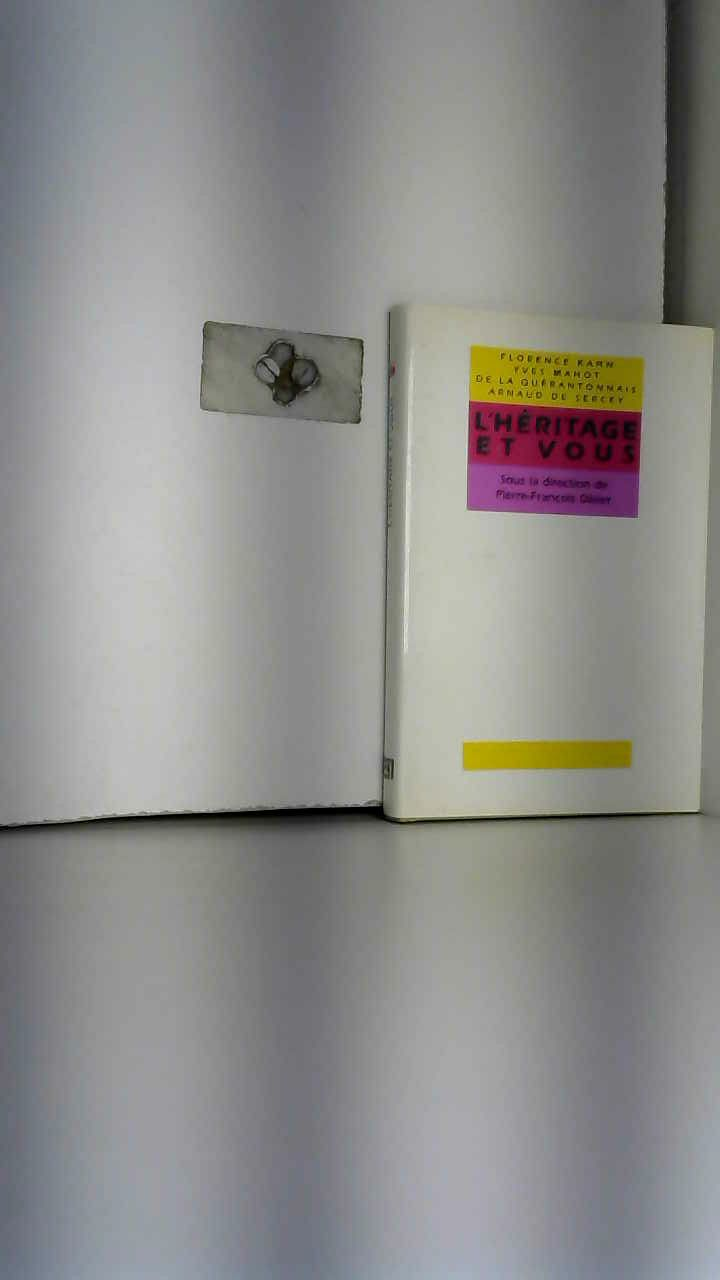book: (358, 259, 720, 878)
